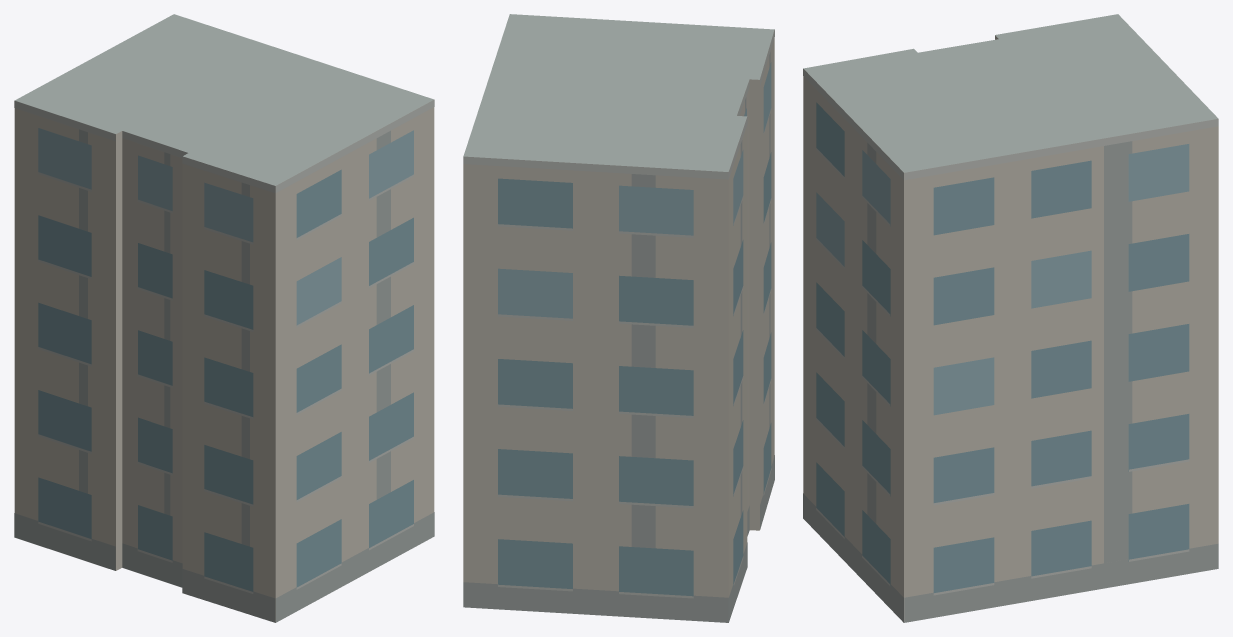
Rendered from survey-upis-33011704.glb.
The picture shows the model from 3 angles, left to right: view 1: azimuth 30°, elevation 25°; view 2: azimuth 150°, elevation 25°; view 3: azimuth 270°, elevation 25°; orthographic projection. The views are drawn at different scales.
Visible parts, largest first — view 1: survey-upis-33011704.tmp; view 2: survey-upis-33011704.tmp; view 3: survey-upis-33011704.tmp.
Part boxes in pixels (x1,y1,x2,y2): survey-upis-33011704.tmp: (14,14,434,622); survey-upis-33011704.tmp: (463,14,774,622); survey-upis-33011704.tmp: (803,14,1218,622).
Size of the model in its own units: 11.06 by 14.6 by 12.22.
